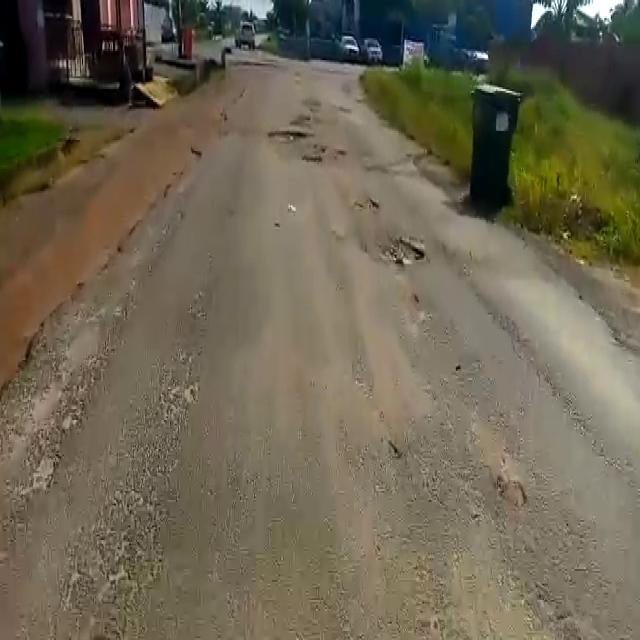Pothole: (374, 234, 428, 268), (268, 126, 308, 139), (301, 150, 321, 168)
